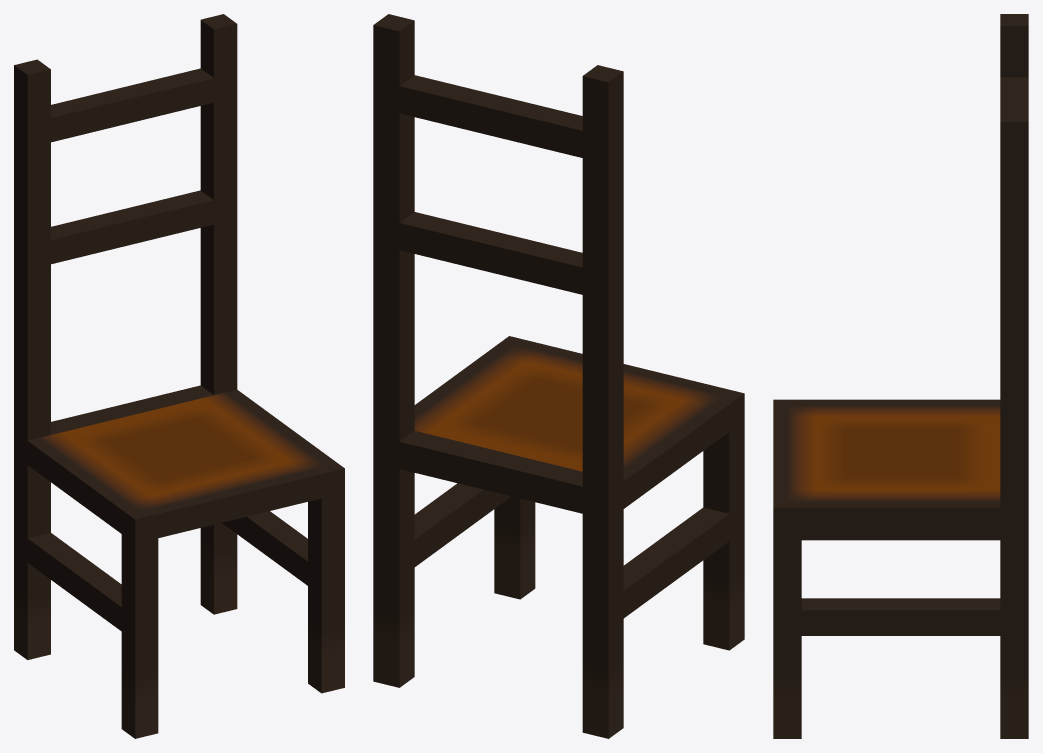
File: ObstacleChair.fbx
3 renders of one model, left to right at view 1: azimuth 30°, elevation 25°; view 2: azimuth 150°, elevation 25°; view 3: azimuth 270°, elevation 25°, orthographic. The views are drawn at different scales.
Visible parts, largest first — view 1: Chair; view 2: Chair; view 3: Chair.
Boxes of the visible parts, <box> form: Chair: <box>14,14,344,738</box>; Chair: <box>373,14,744,738</box>; Chair: <box>773,14,1028,738</box>.
Bounding box in the file's own units: 9 × 24 × 9.
Materials: 1 (1 with a texture image).
